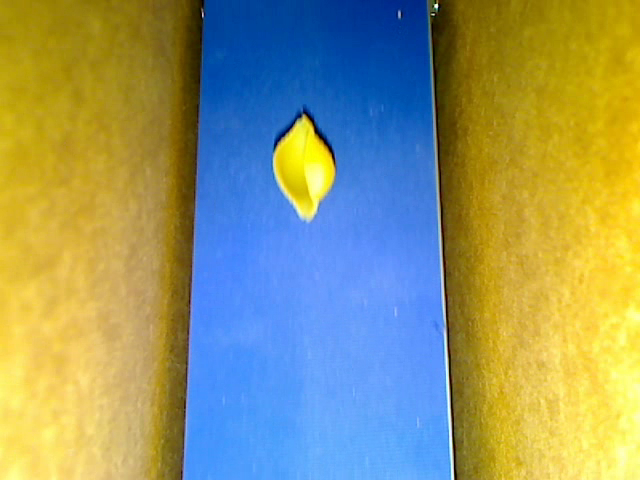shell: (273, 115, 336, 221)
